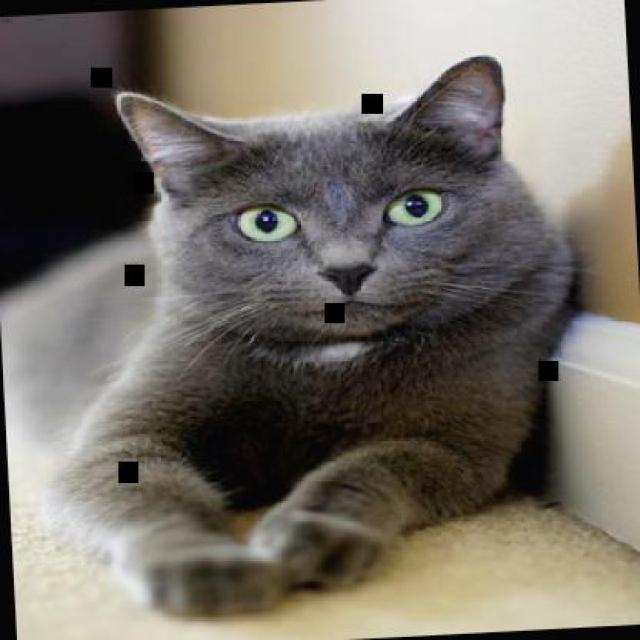cat: (0, 47, 592, 629)
